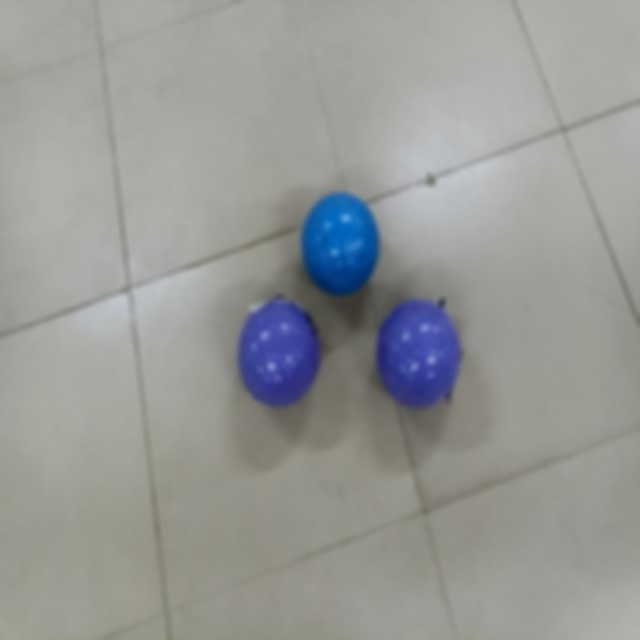blue_ball: (297, 190, 387, 297)
purple_ball: (236, 295, 330, 412), (371, 297, 467, 406)
